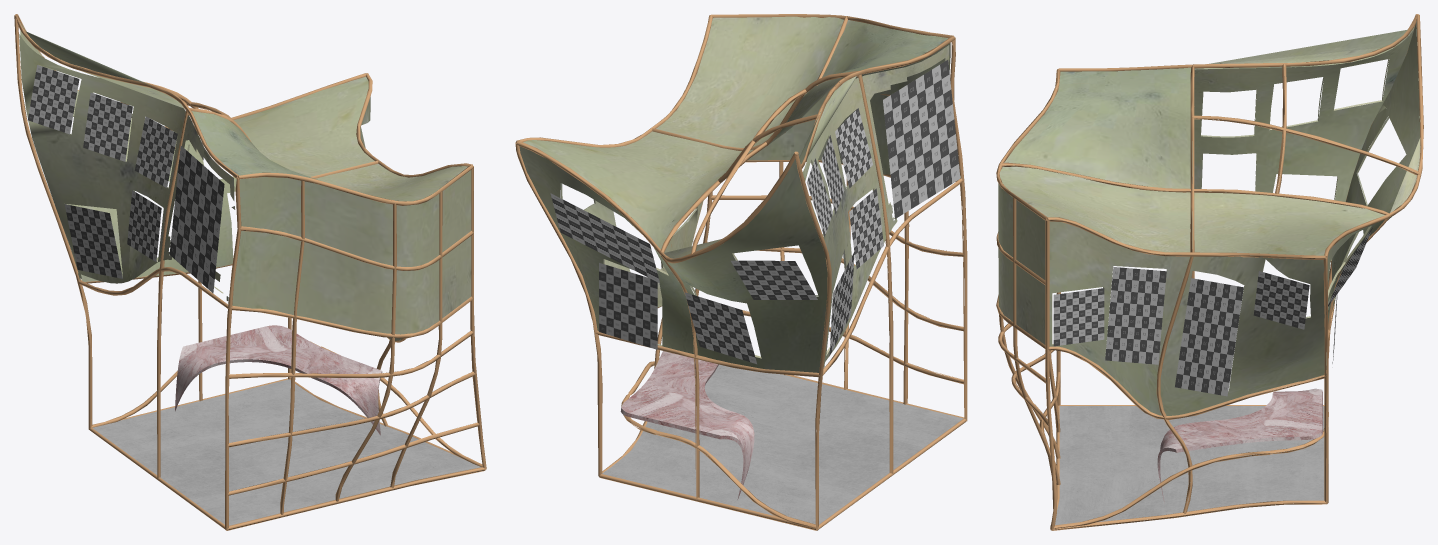
File: Booth3 V1_pastel vintage_Blank.glb
3 views of the same model, side by side, from view 1: azimuth 30°, elevation 25°; view 2: azimuth 150°, elevation 25°; view 3: azimuth 270°, elevation 25° (orthographic). The views are drawn at different scales.
Visible parts, largest first — view 1: Object_43, Object_1, Object_44, LEFT, Object_49; view 2: Object_43, Object_1, Object_44, LEFT, FRONT, Object_49; view 3: Object_43, Object_1, Object_44, RIGHT, Object_49, FRONT.
Part boxes in pixels (x1,y1,x2,y2): Object_43: [19, 22, 471, 341]; Object_1: [92, 379, 481, 525]; Object_44: [14, 14, 486, 530]; LEFT: [27, 65, 224, 293]; Object_49: [175, 325, 382, 435]; Object_43: [519, 16, 960, 372]; Object_1: [602, 364, 963, 524]; Object_44: [515, 14, 967, 530]; LEFT: [806, 60, 960, 356]; FRONT: [550, 193, 817, 364]; Object_49: [620, 351, 754, 499]; Object_43: [998, 21, 1420, 415]; Object_1: [1055, 406, 1324, 525]; Object_44: [996, 14, 1423, 530]; RIGHT: [1053, 267, 1309, 396]; Object_49: [1157, 388, 1322, 501]; FRONT: [1328, 227, 1372, 363].
Size of the model in its own units: 5 by 5.91 by 6.01.
Materials: 5 (4 with a texture image).
